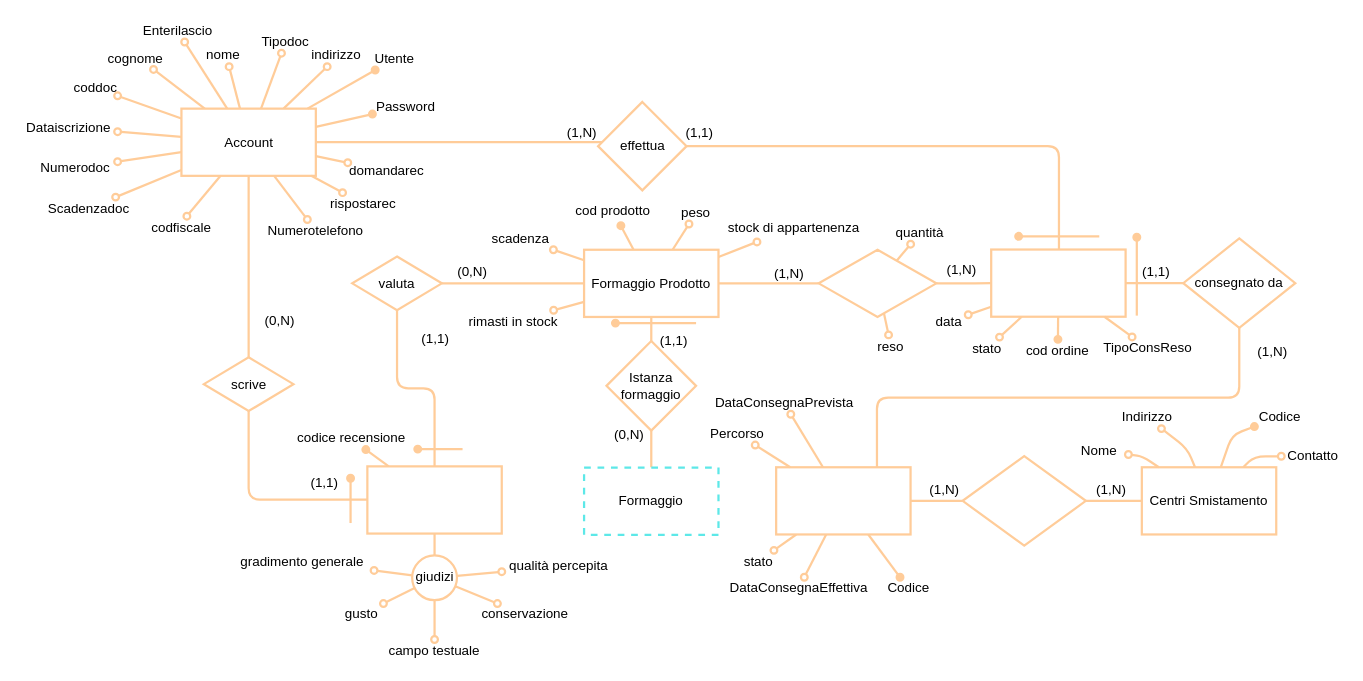
This 1363x681 diagram has some shape labels left out. Here are the shapes that lost their labels. From the top down, the box of each, then its label:
(817, 248, 937, 318): contenuto ordine
(990, 248, 1126, 317): Ordine Prodotti
(366, 465, 502, 534): Recensione
(774, 466, 911, 535): Spedizione
(961, 454, 1086, 546): processata da
